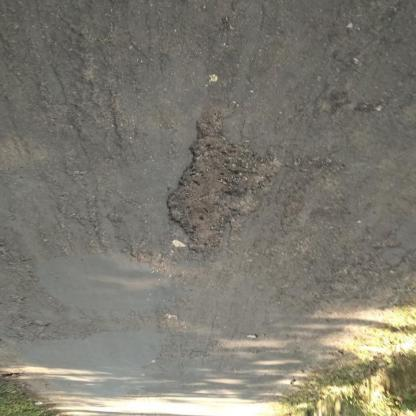pothole: (163, 112, 282, 265)
